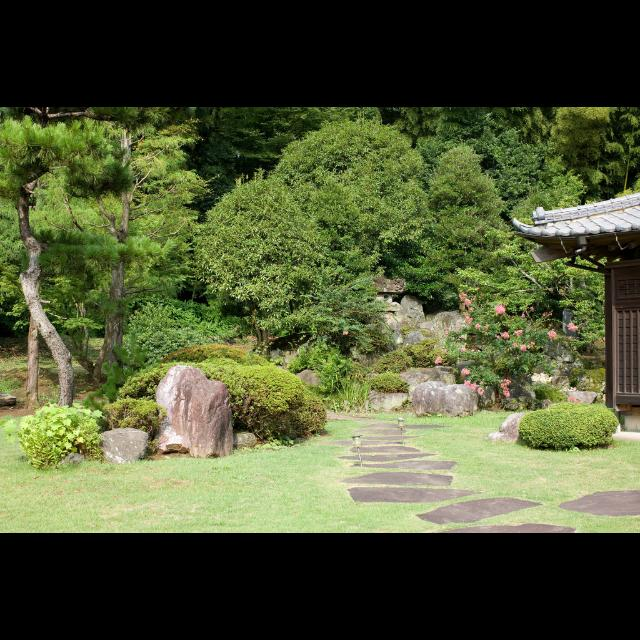Flower: (494, 302, 506, 316), (502, 379, 511, 396), (463, 311, 473, 325), (463, 298, 472, 310), (568, 322, 578, 332), (546, 330, 556, 338), (458, 293, 467, 301), (433, 356, 441, 364), (568, 394, 576, 402), (500, 332, 510, 338), (461, 368, 469, 374), (471, 382, 477, 390), (474, 324, 482, 330), (478, 387, 484, 395), (519, 345, 525, 351), (466, 379, 470, 386), (462, 347, 466, 353), (468, 306, 472, 312), (480, 380, 484, 386), (484, 324, 488, 330), (514, 330, 520, 334), (344, 331, 348, 335), (442, 350, 446, 354), (530, 307, 534, 311), (567, 336, 571, 340), (466, 324, 468, 330), (514, 343, 516, 349), (496, 336, 499, 339), (444, 334, 448, 336), (444, 328, 448, 330), (522, 314, 524, 318), (528, 345, 530, 349), (542, 314, 546, 316), (461, 335, 464, 337), (532, 342, 534, 344), (548, 324, 550, 326), (550, 314, 552, 316)
